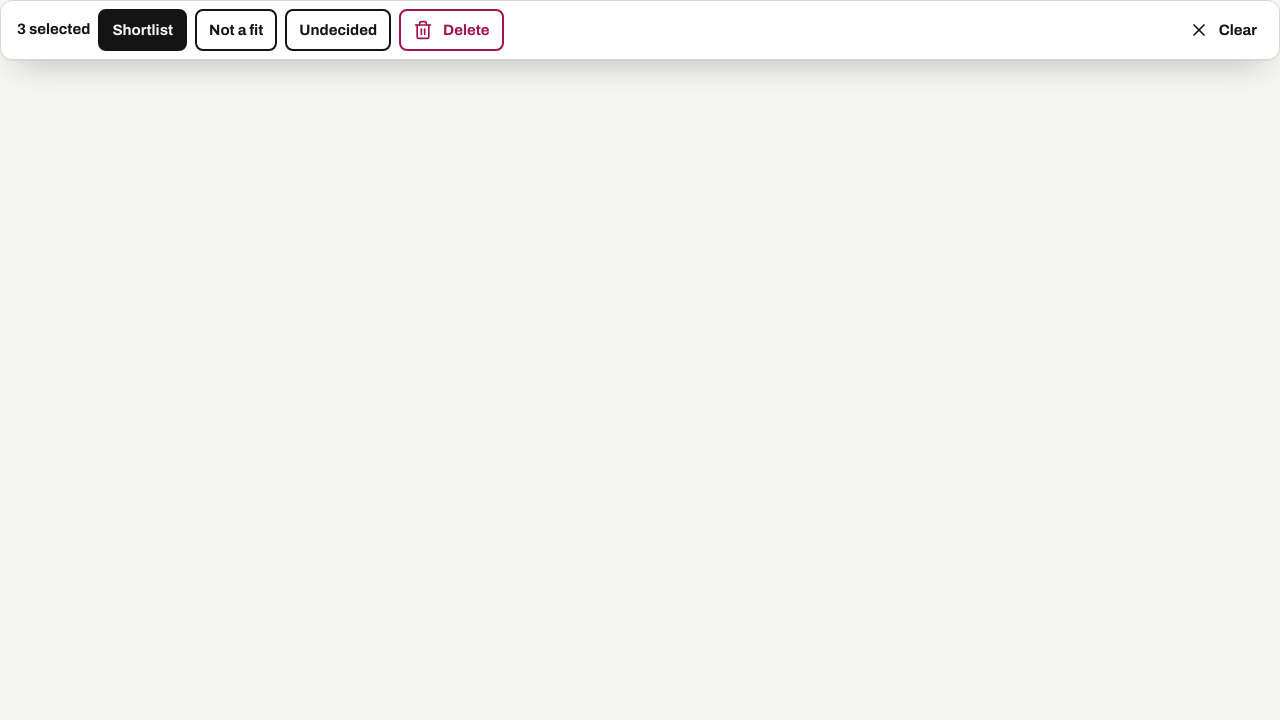
Test case: BulkBar › lets an admin delete the checked CVs after confirming with the count
The width and height of the screenshot is (1280, 720).
Click the button with aria-label "Delete 3 candidates": (451, 30) [399, 9, 504, 51]
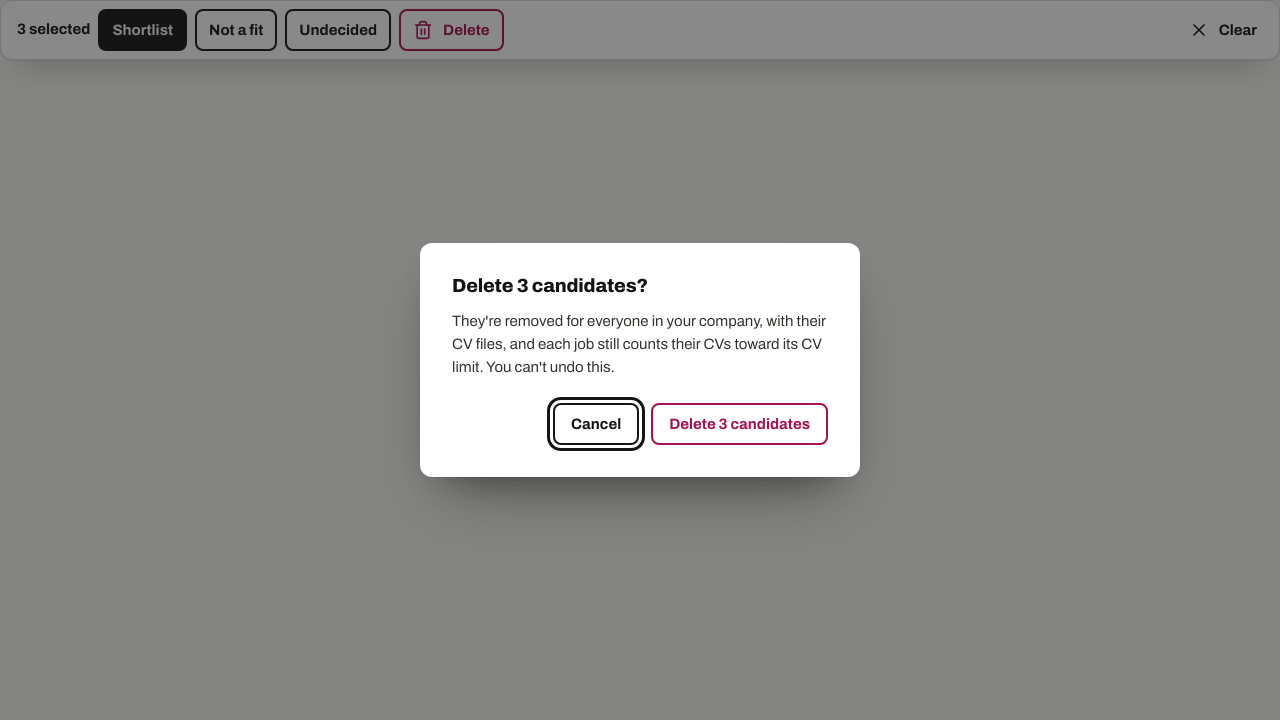
Expected: the dialog "Delete 3 candidates?" shows "You can't undo this.", [452, 312, 826, 375]
Click the button "Delete 3 candidates": (740, 424) [651, 403, 828, 445]
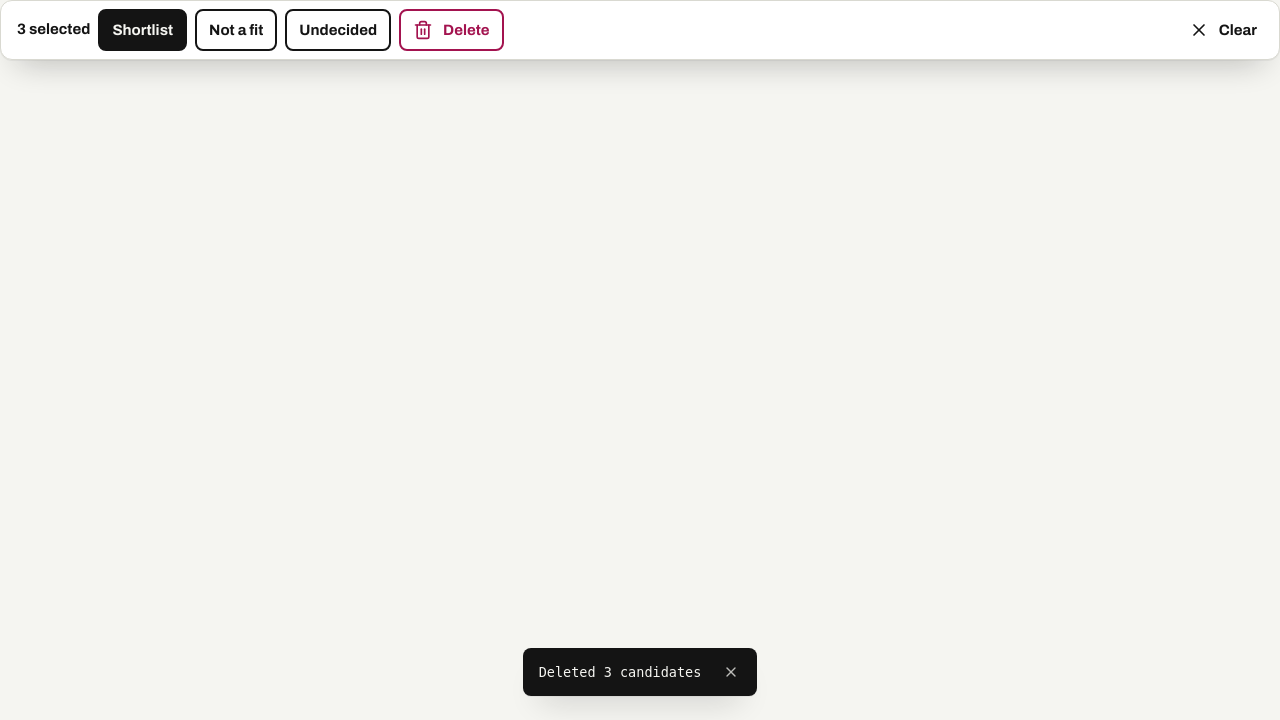
Expected: the text "Deleted 3 candidates" is shown, [539, 664, 701, 680]
